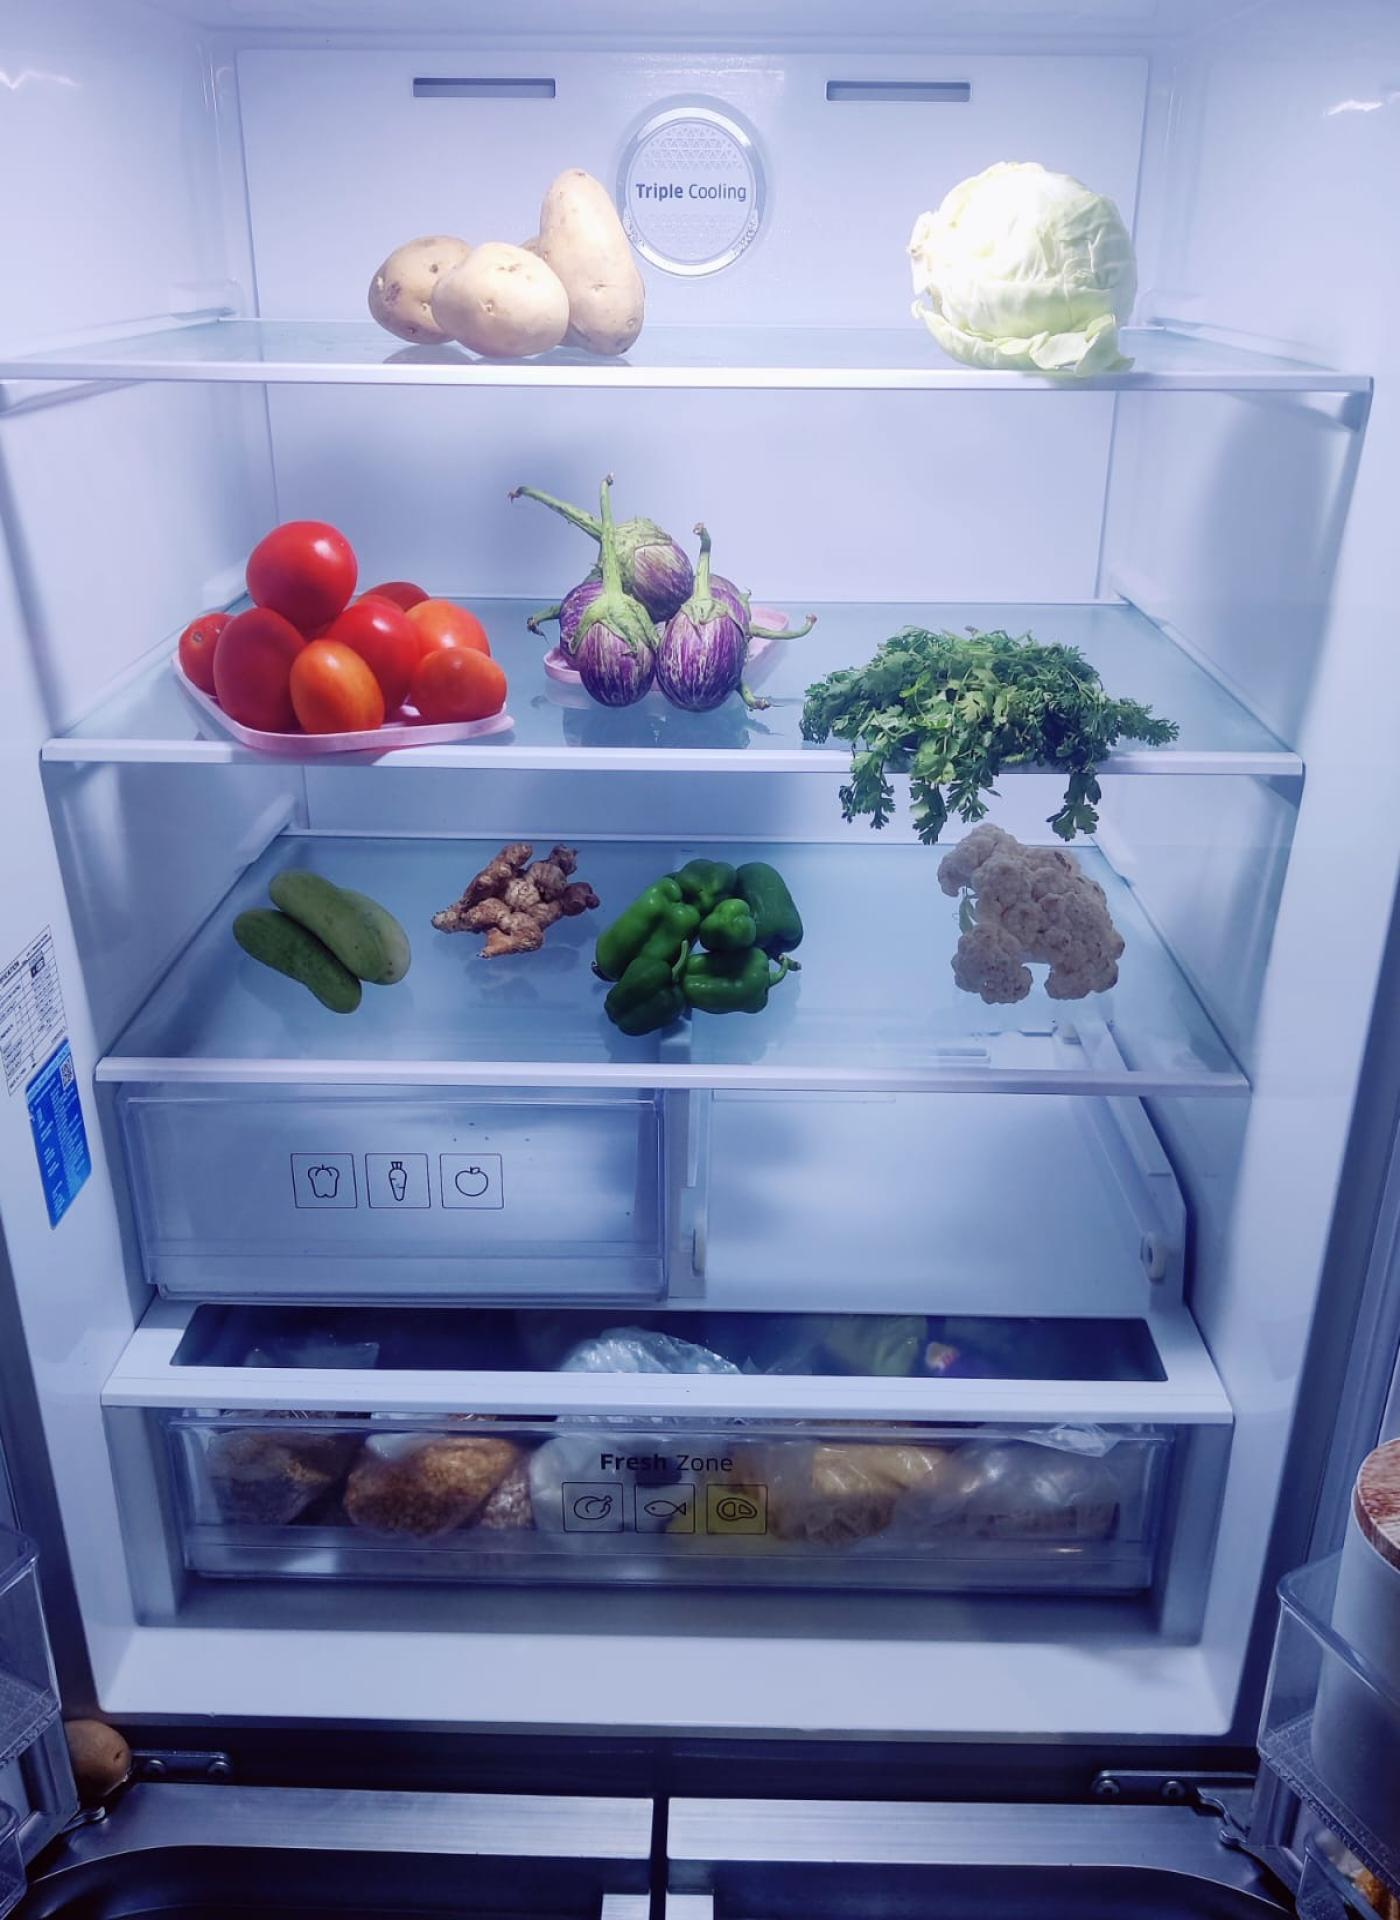brinjal: (555, 525, 750, 711)
cabbage: (914, 160, 1139, 362)
capsicum: (595, 866, 796, 1042)
cauliflower: (947, 821, 1130, 999)
coriander: (802, 626, 1163, 784)
cucumber: (233, 866, 412, 1011)
ginger: (432, 836, 599, 956)
potato: (365, 167, 641, 349)
tomato: (182, 522, 502, 738)
